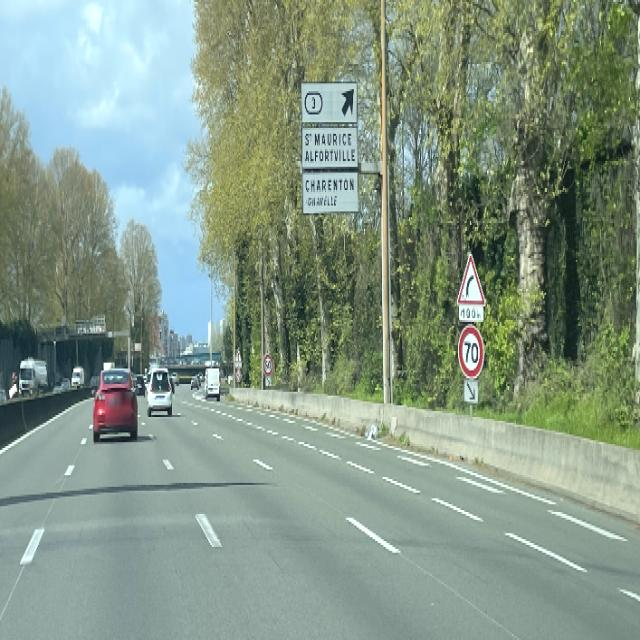speed_70: (457, 326, 485, 380)
